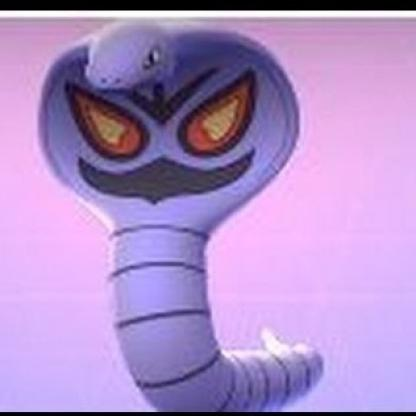Arbok: (35, 20, 332, 416)
